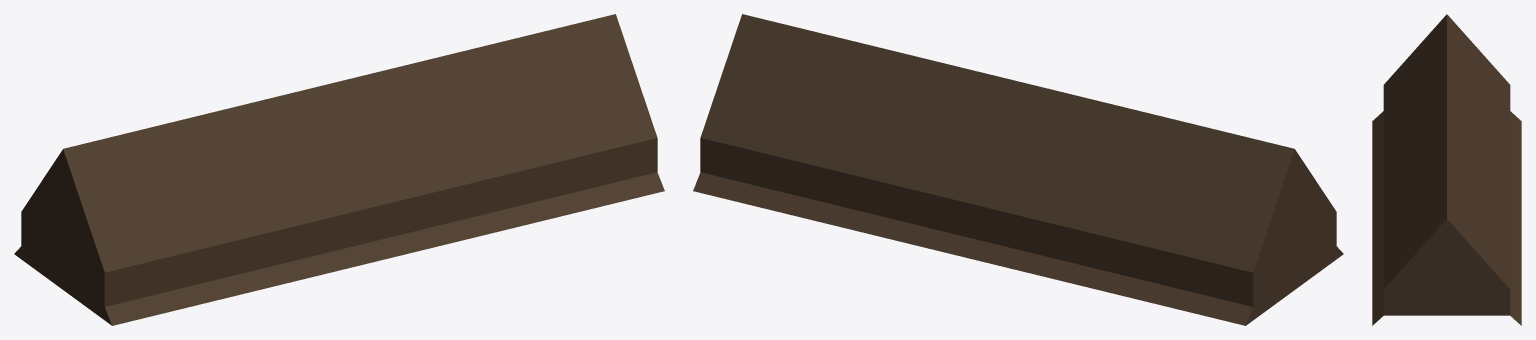
File: buildings-roof-triangle-top-3m.glb
The picture shows the model from 3 angles, left to right: view 1: azimuth 30°, elevation 25°; view 2: azimuth 150°, elevation 25°; view 3: azimuth 270°, elevation 25°; orthographic projection. The views are drawn at different scales.
Visible parts, largest first — view 1: roof-triangle-top-3m; view 2: roof-triangle-top-3m; view 3: roof-triangle-top-3m.
Part boxes in pixels (x1,y1,x2,y2): roof-triangle-top-3m: (14, 14, 664, 325); roof-triangle-top-3m: (693, 14, 1343, 325); roof-triangle-top-3m: (1372, 14, 1521, 325).
Bounding box in the file's own units: 3 × 0.7323 × 0.9237.
